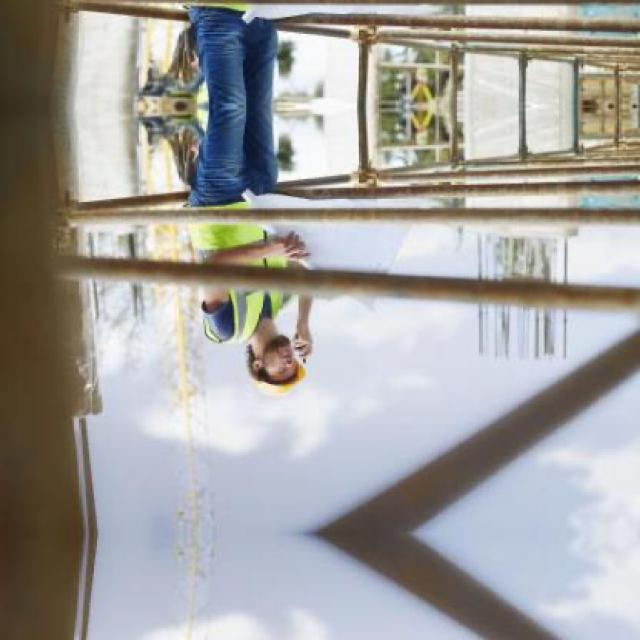con casco: (243, 329, 314, 406)
